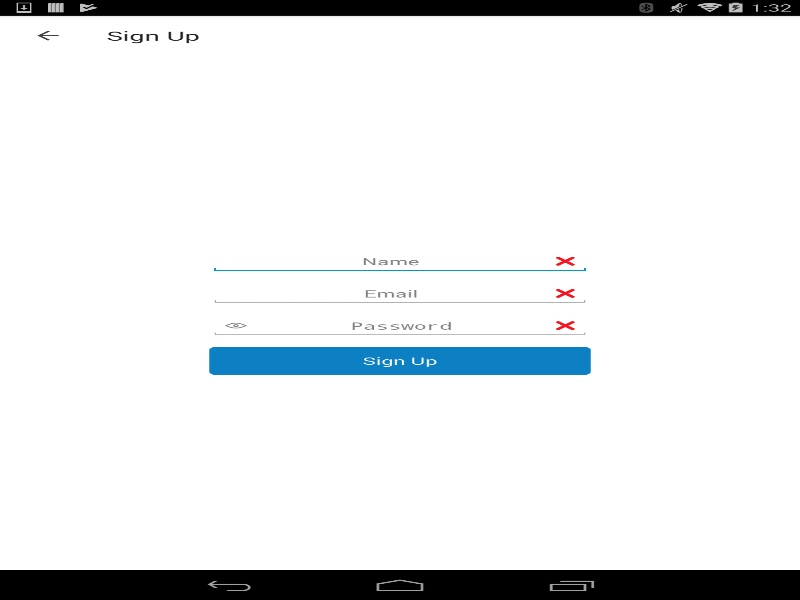Button: (209, 346, 590, 375), (10, 15, 85, 55)
Input: (209, 250, 590, 273), (209, 282, 590, 305), (209, 314, 590, 337)
